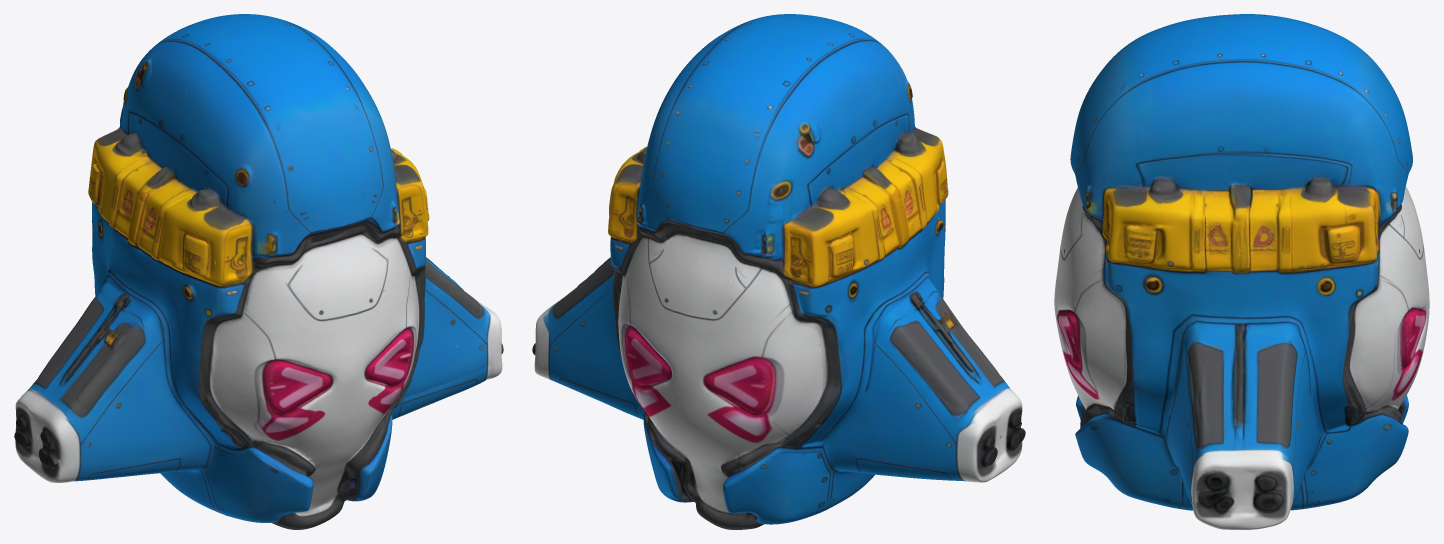
The model's file is PlayerShip.fbx.
3 renders of one model, left to right at view 1: azimuth 30°, elevation 25°; view 2: azimuth 150°, elevation 25°; view 3: azimuth 270°, elevation 25°, orthographic.
Visible parts, largest first — view 1: Meshy_AI_Blue_Jet_0422040344_texture; view 2: Meshy_AI_Blue_Jet_0422040344_texture; view 3: Meshy_AI_Blue_Jet_0422040344_texture.
Boxes of the visible parts, x1,y1,x2,y2 form: Meshy_AI_Blue_Jet_0422040344_texture: (14,14,503,529); Meshy_AI_Blue_Jet_0422040344_texture: (532,14,1025,529); Meshy_AI_Blue_Jet_0422040344_texture: (1054,14,1429,529).
Size of the model in its own units: 2 by 2 by 1.41.
